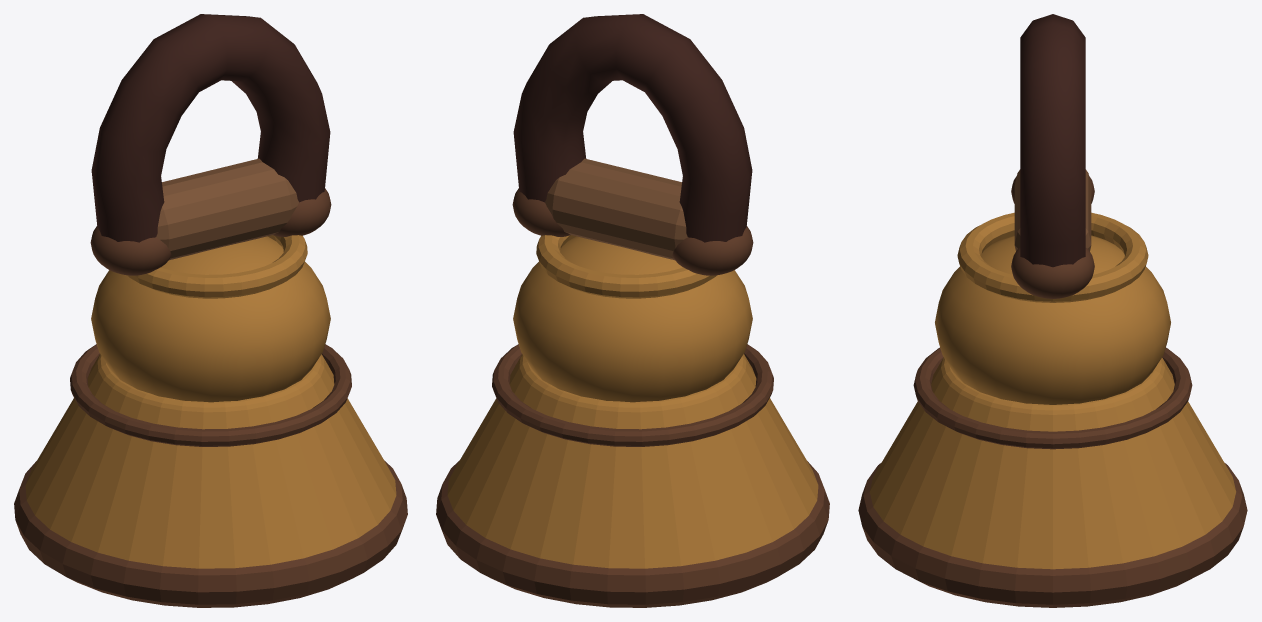
Rendered from echo_bell.glb.
3 renders of one model, left to right at view 1: azimuth 30°, elevation 25°; view 2: azimuth 150°, elevation 25°; view 3: azimuth 270°, elevation 25°, orthographic.
Visible parts, largest first — view 1: BellBody, CarvedWoodHandle, BellDome, BellRim, HandleGrip, BellEngravedBand, BellCapBand, HandleCap, HandleCapRight; view 2: BellBody, CarvedWoodHandle, BellDome, BellRim, HandleGrip, BellEngravedBand, BellCapBand, HandleCap, HandleCapRight; view 3: BellBody, BellDome, CarvedWoodHandle, BellRim, BellEngravedBand, BellCapBand, HandleCapRight, HandleGrip.
Boxes of the visible parts, left/top/right/bottom form: BellBody: left=25, top=354, right=396, bottom=568; CarvedWoodHandle: left=91, top=14, right=330, bottom=242; BellDome: left=91, top=236, right=330, bottom=402; BellRim: left=14, top=460, right=407, bottom=607; HandleGrip: left=156, top=158, right=298, bottom=260; BellEngravedBand: left=70, top=344, right=351, bottom=446; BellCapBand: left=127, top=235, right=307, bottom=298; HandleCap: left=90, top=226, right=171, bottom=275; HandleCapRight: left=273, top=188, right=331, bottom=236; BellBody: left=447, top=354, right=818, bottom=568; CarvedWoodHandle: left=513, top=14, right=752, bottom=242; BellDome: left=513, top=236, right=752, bottom=402; BellRim: left=436, top=460, right=829, bottom=607; HandleGrip: left=545, top=158, right=687, bottom=260; BellEngravedBand: left=492, top=344, right=773, bottom=446; BellCapBand: left=536, top=235, right=716, bottom=298; HandleCap: left=672, top=226, right=753, bottom=275; HandleCapRight: left=512, top=188, right=570, bottom=236; BellBody: left=869, top=357, right=1236, bottom=569; BellDome: left=935, top=236, right=1170, bottom=404; CarvedWoodHandle: left=1020, top=14, right=1085, bottom=267; BellRim: left=858, top=463, right=1247, bottom=607; BellEngravedBand: left=913, top=347, right=1192, bottom=449; BellCapBand: left=957, top=212, right=1148, bottom=302; HandleCapRight: left=1011, top=248, right=1094, bottom=298; HandleGrip: left=1014, top=169, right=1091, bottom=251.
Size of the model in its own units: 0.79 by 1.21 by 0.79.
